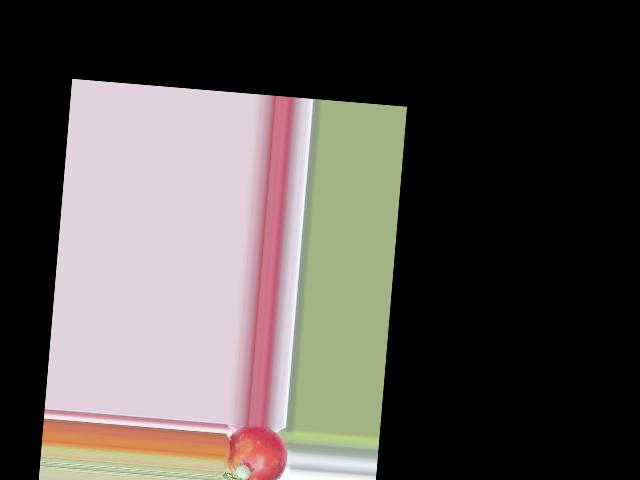tomato: (225, 422, 289, 480)
